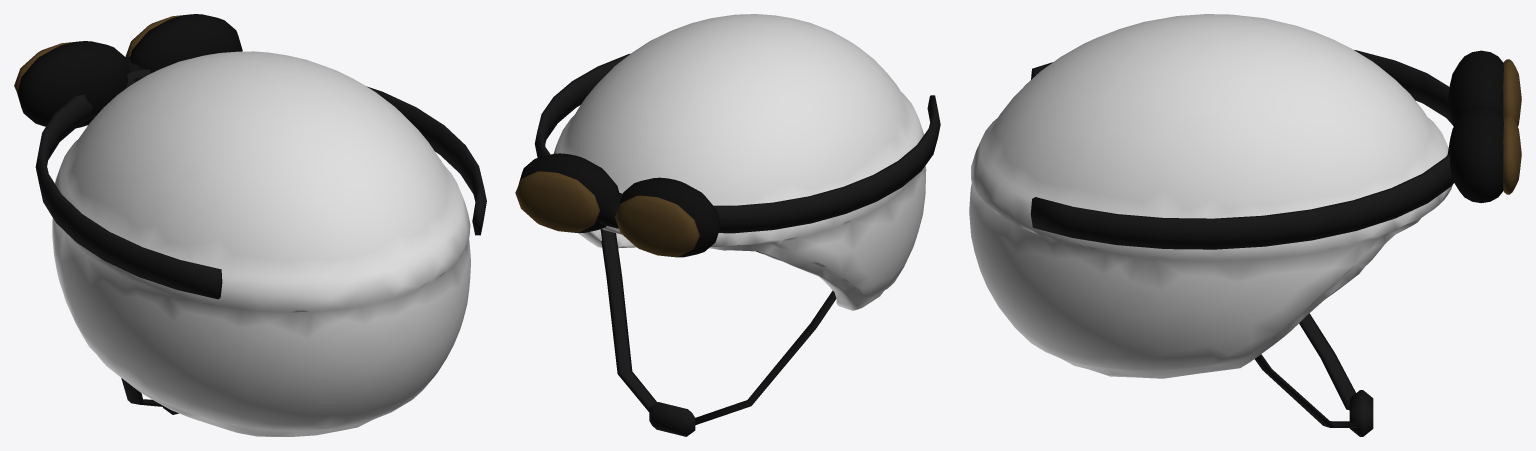
File: ru_helmet.glb
3 views of the same model, side by side, from view 1: azimuth 30°, elevation 25°; view 2: azimuth 150°, elevation 25°; view 3: azimuth 270°, elevation 25° (orthographic). The views are drawn at different scales.
Visible parts, largest first — view 1: ru_helmet_LOD0; view 2: ru_helmet_LOD0; view 3: ru_helmet_LOD0.
Boxes of the visible parts, x1=… form: ru_helmet_LOD0: x1=14, y1=14, x2=486, y2=436; ru_helmet_LOD0: x1=515, y1=14, x2=940, y2=436; ru_helmet_LOD0: x1=969, y1=14, x2=1521, y2=436.
Size of what is drawn, in the model's own units: 0.2798 by 0.2779 by 0.3525.
